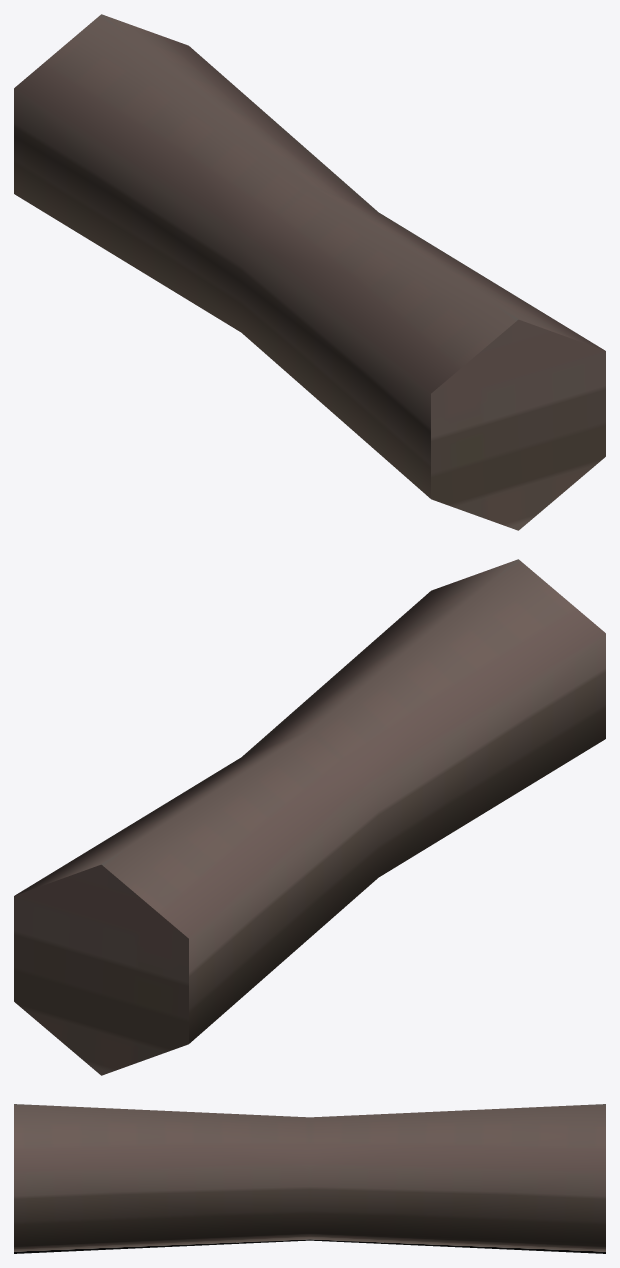
The picture shows the model from 3 angles, top to bottom: view 1: azimuth 30°, elevation 25°; view 2: azimuth 150°, elevation 25°; view 3: azimuth 270°, elevation 25°; orthographic projection. The views are drawn at different scales.
Size of the model in its own units: 0.271 by 0.3129 by 1.12.
1 material, 1 textured.
